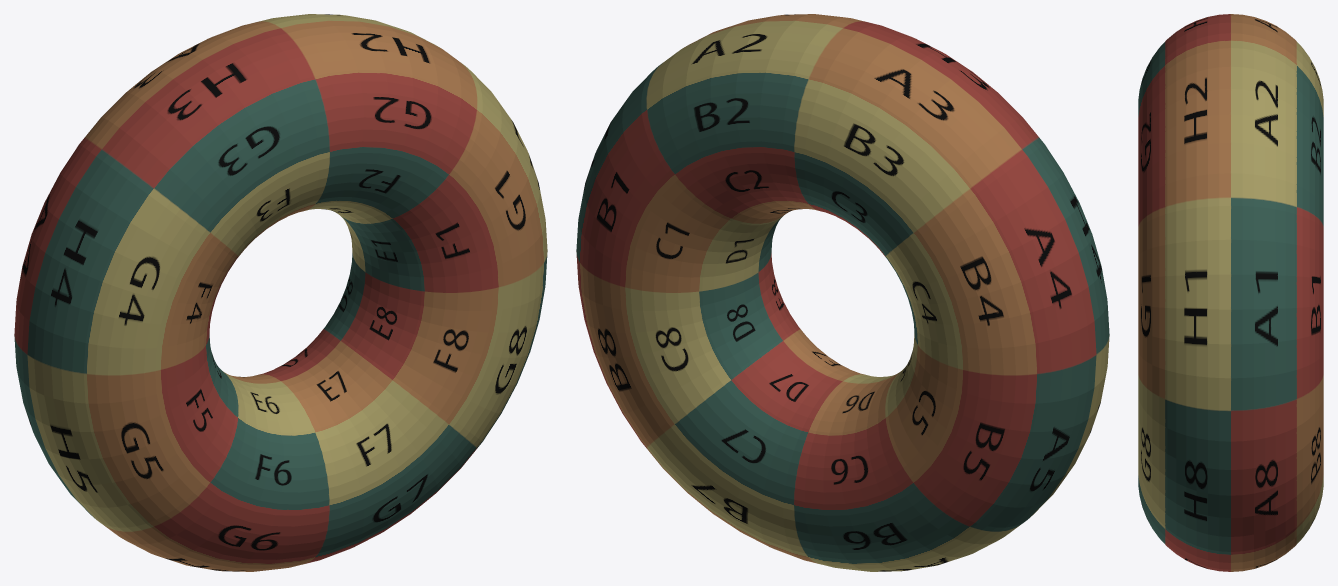
Rendered from texture_torus_R15_r30.glb.
The picture shows the model from 3 angles, left to right: view 1: azimuth 30°, elevation 25°; view 2: azimuth 150°, elevation 25°; view 3: azimuth 270°, elevation 25°; orthographic projection. The views are drawn at different scales.
Visible parts, largest first — view 1: world; view 2: world; view 3: world.
Boxes of the visible parts, x1=… form: world: x1=14, y1=14, x2=547, y2=571; world: x1=576, y1=14, x2=1109, y2=571; world: x1=1138, y1=14, x2=1323, y2=571.
Bounding box in the file's own units: 30 × 29.94 × 9.98.
1 material, 1 textured.
